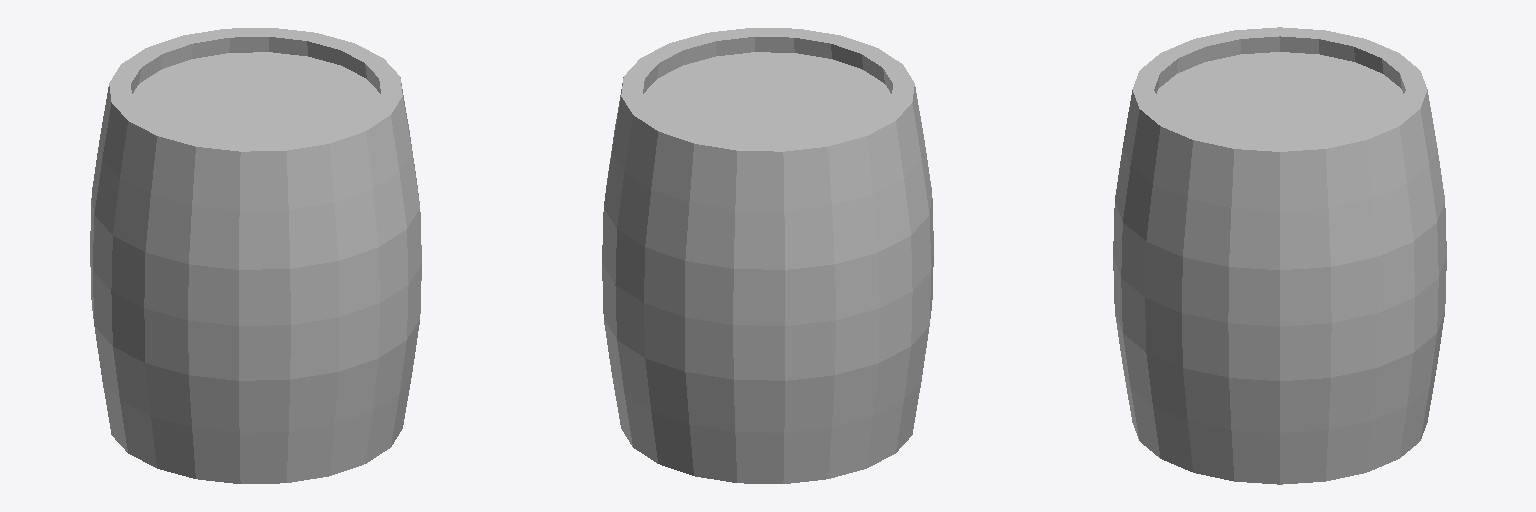
Rendered from Barril1.obj.
The picture shows the model from 3 angles: view 1: azimuth 30°, elevation 25°; view 2: azimuth 150°, elevation 25°; view 3: azimuth 270°, elevation 25°; orthographic projection.
Visible parts, largest first — view 1: Barrel_body; view 2: Barrel_body; view 3: Barrel_body.
Boxes of the visible parts, x1,y1,x2,y2 form: Barrel_body: [90, 28, 421, 483]; Barrel_body: [602, 28, 933, 483]; Barrel_body: [1113, 27, 1446, 484].
Size of the model in its own units: 1.11 by 1.22 by 1.11.